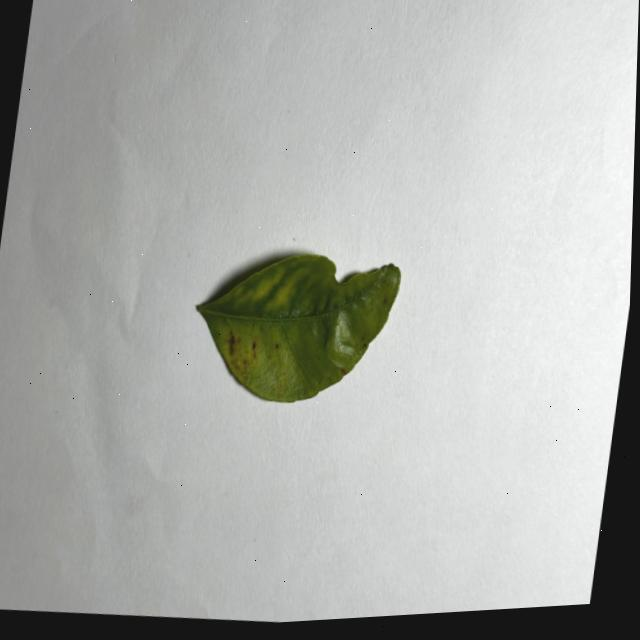greening: (197, 254, 399, 401)
